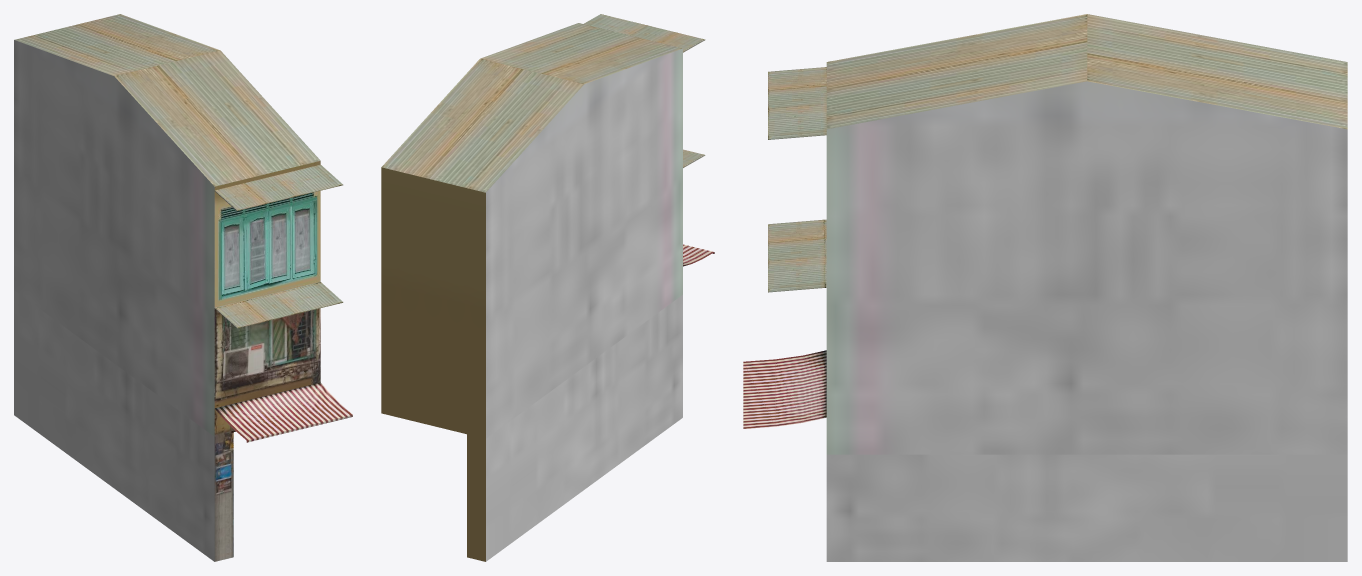
3 renders of one model, left to right at view 1: azimuth 30°, elevation 25°; view 2: azimuth 150°, elevation 25°; view 3: azimuth 270°, elevation 25°, orthographic. The views are drawn at different scales.
Parts seen in each view (by area): view 1: HN1035__; view 2: HN1035__; view 3: HN1035__.
Boxes of the visible parts, left/top/right/bottom form: HN1035__: left=14, top=14, right=352, bottom=561; HN1035__: left=381, top=14, right=714, bottom=561; HN1035__: left=743, top=14, right=1347, bottom=561.
Size of the model in its own units: 2.55 by 9.47 by 9.68.
1 material, 1 textured.
